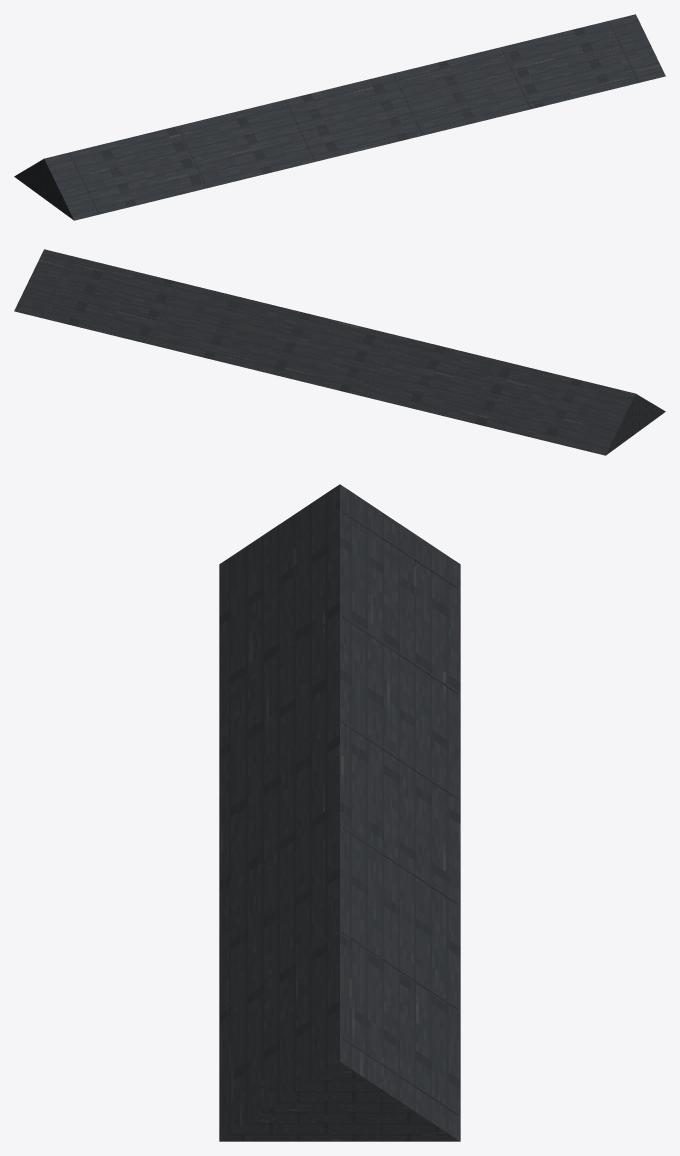
File: house_04_roof_ridge.glb
The picture shows the model from 3 angles, top to bottom: view 1: azimuth 30°, elevation 25°; view 2: azimuth 150°, elevation 25°; view 3: azimuth 270°, elevation 25°; orthographic projection. The views are drawn at different scales.
Visible parts, largest first — view 1: house_04_roof_ridge; view 2: house_04_roof_ridge; view 3: house_04_roof_ridge.
Boxes of the visible parts, x1,y1,x2,y2 form: house_04_roof_ridge: (14, 14, 665, 220); house_04_roof_ridge: (14, 249, 665, 455); house_04_roof_ridge: (219, 484, 460, 1141).
Size of the model in its own units: 3.4 by 0.22 by 0.6.
Materials: 1 (1 with a texture image).
